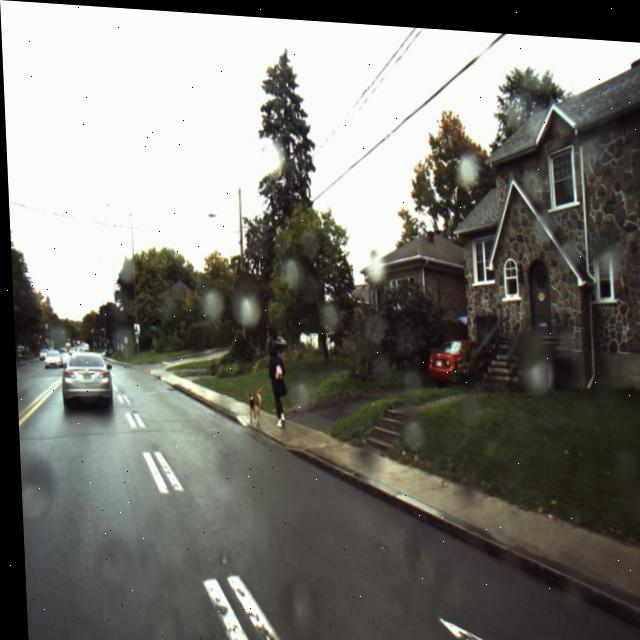car: (424, 333, 477, 377), (41, 349, 58, 369)
